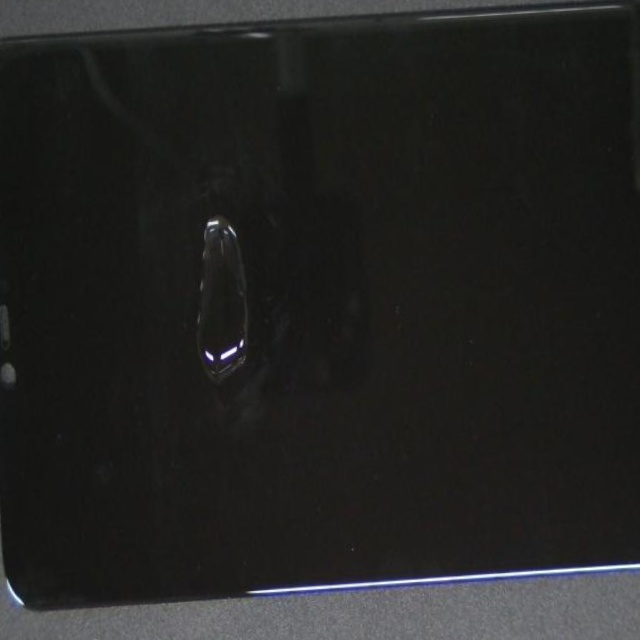oil: (106, 81, 384, 368)
